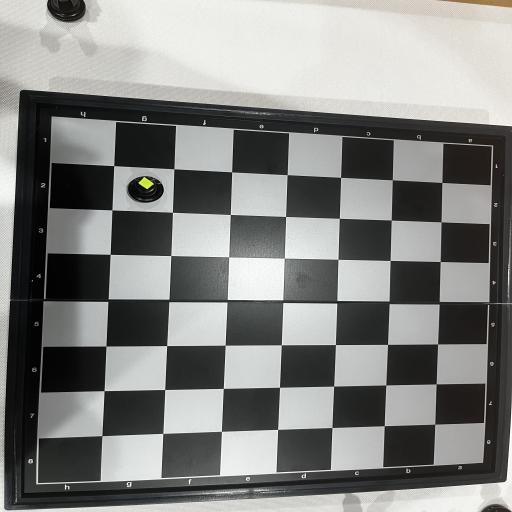Black pawn: (127, 176, 164, 203)
